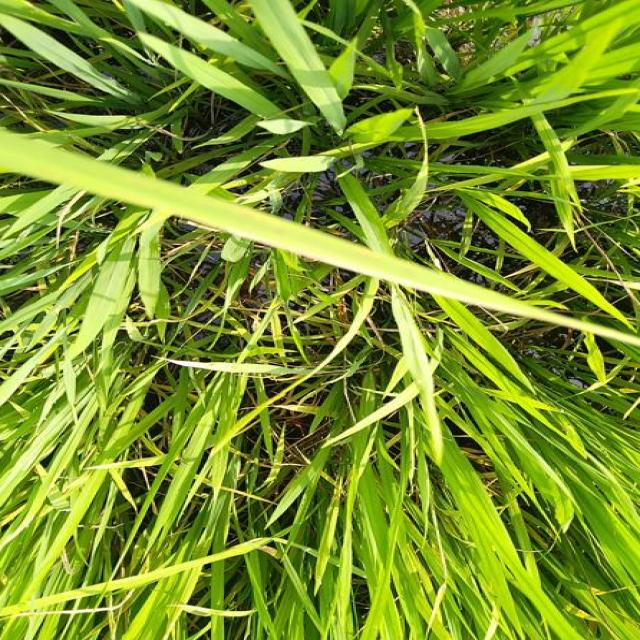Leaf Blight: (0, 128, 640, 347)
